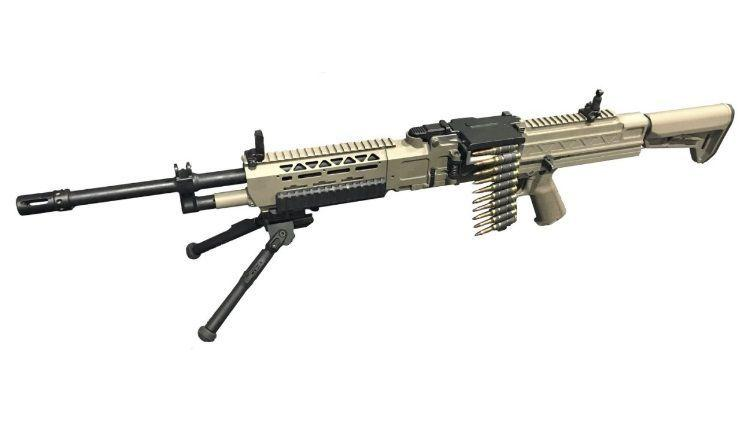larga: (17, 88, 735, 342)
